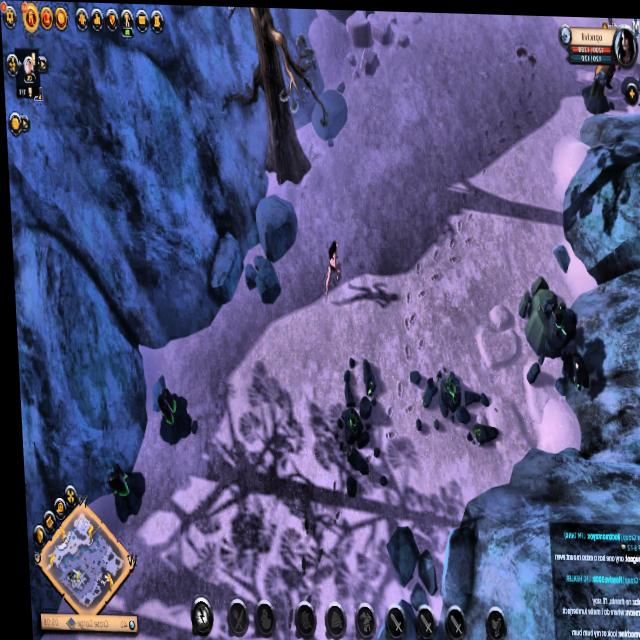sandstone: (513, 264, 568, 359)
tin_ore: (97, 452, 144, 531), (150, 378, 189, 451)
